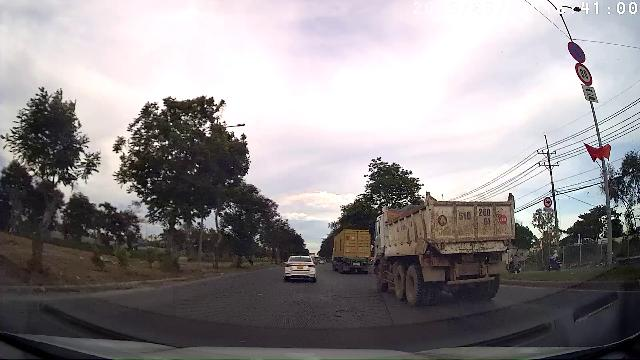127-toc-do-toi-da-80: (575, 63, 593, 85)
130-cam-dung-va-do-xe: (568, 41, 586, 62)
